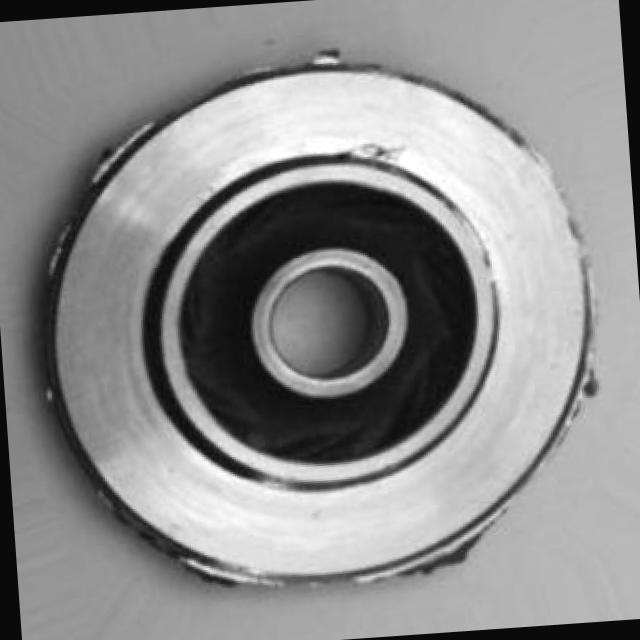Defect: (337, 124, 418, 178)
